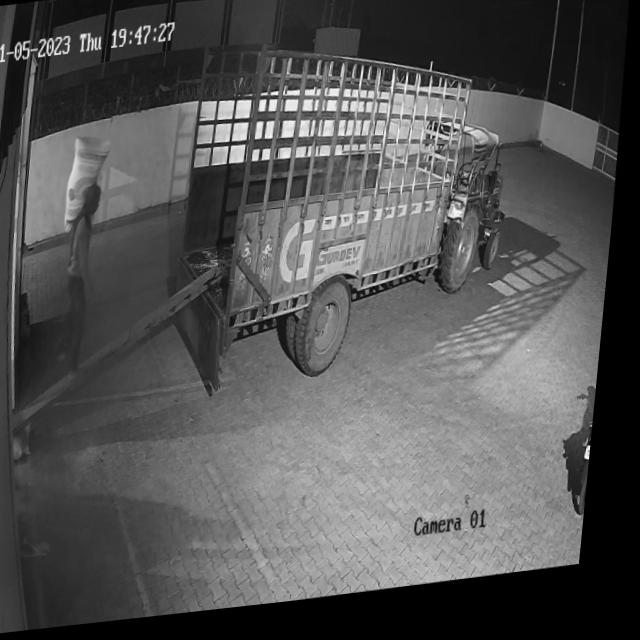sack: (66, 133, 117, 237)
